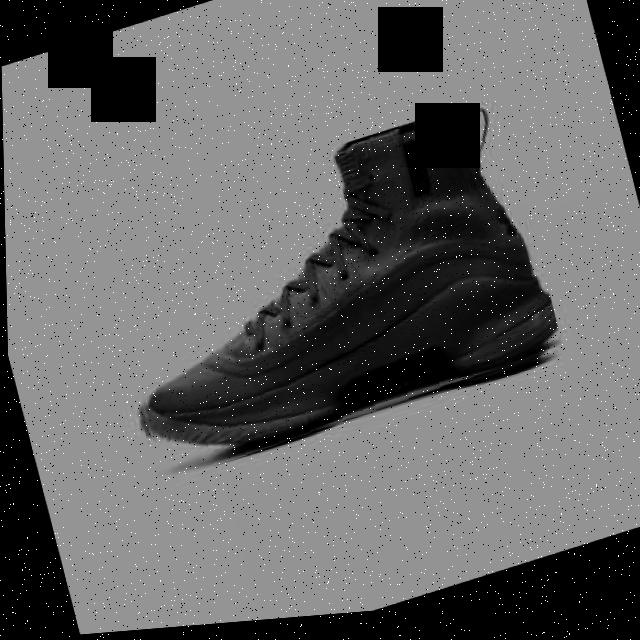shoe: (86, 99, 565, 492)
